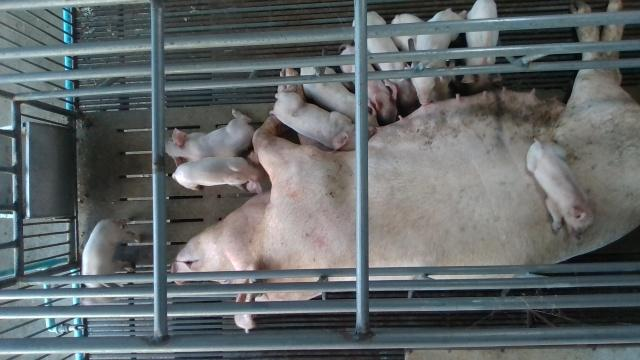piglet: (527, 136, 596, 239), (352, 10, 417, 105), (410, 5, 465, 108), (271, 85, 355, 152), (337, 42, 397, 125), (299, 65, 378, 128), (164, 108, 253, 162), (81, 216, 139, 287), (463, 0, 506, 95), (174, 155, 266, 195)
sow-sleep-lactate: (172, 0, 640, 329)
